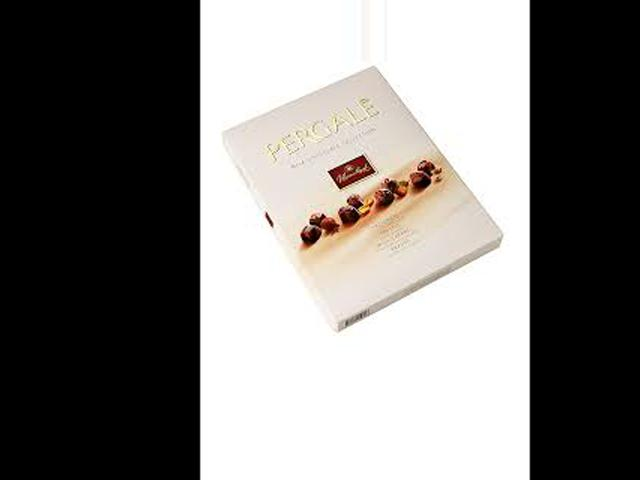chocolate: (220, 69, 524, 336)
